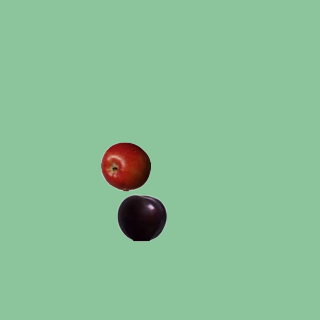Apple Braeburn: (100, 141, 150, 191)
Cherry Wax Black: (116, 192, 166, 242)
